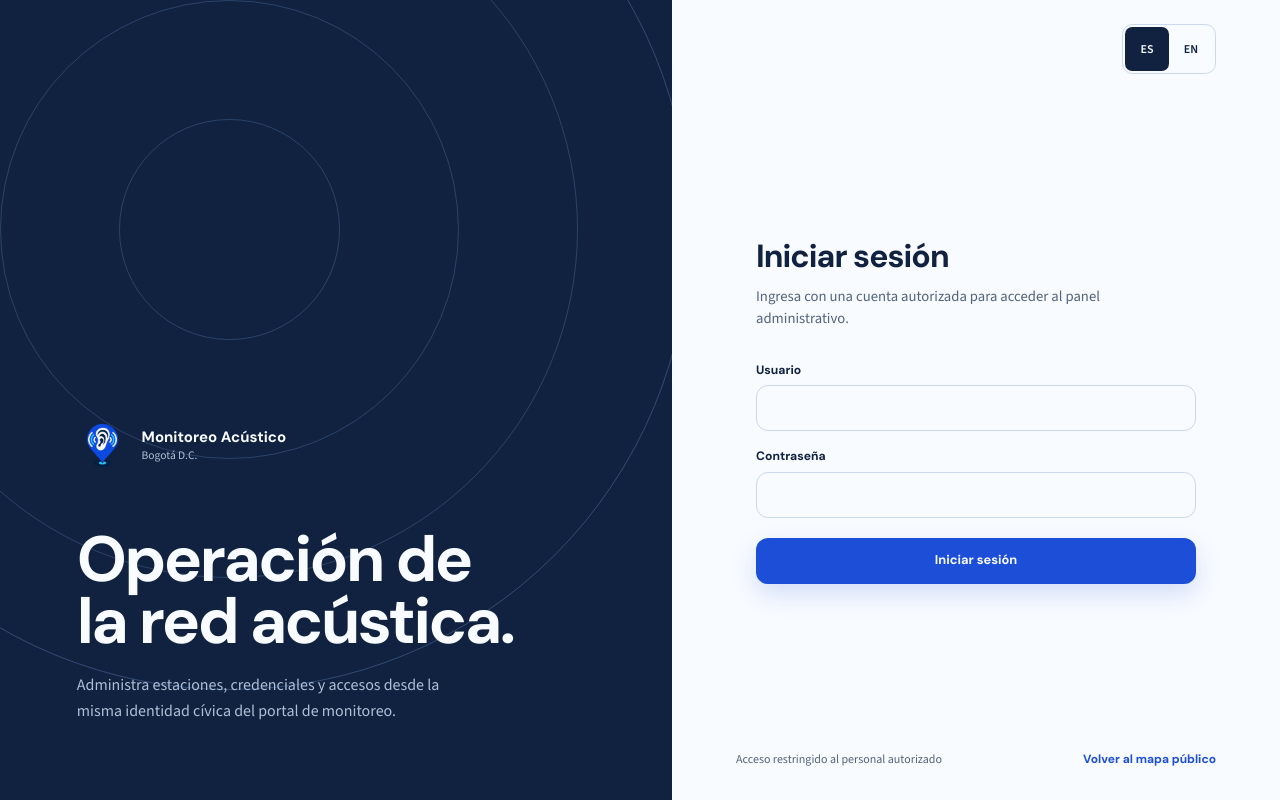
Test: changes a visible login error and preserves credentials without another request
In the field labelled "Usuario": (976, 408) [756, 386, 1196, 432], type "fixture-user"
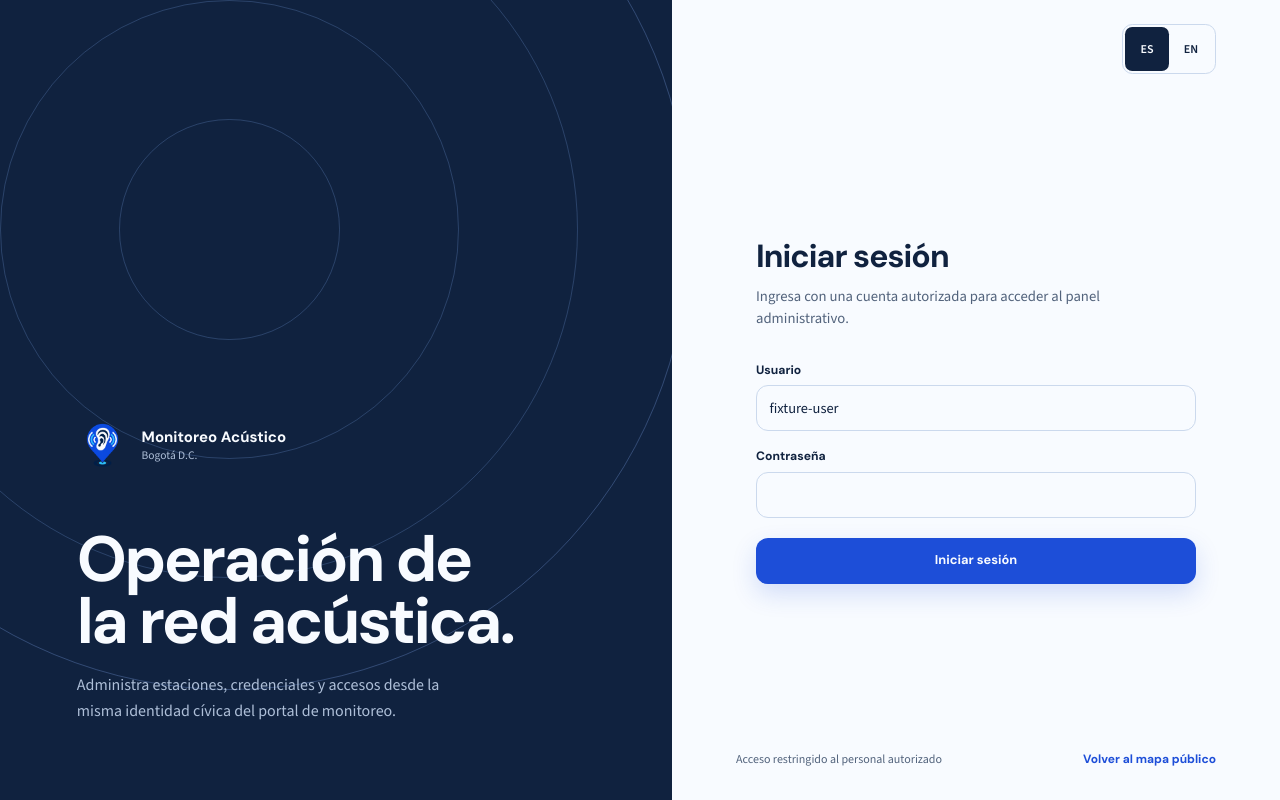
In the password field labelled "Contraseña": (976, 495) [756, 472, 1196, 518], type "fixture-password"
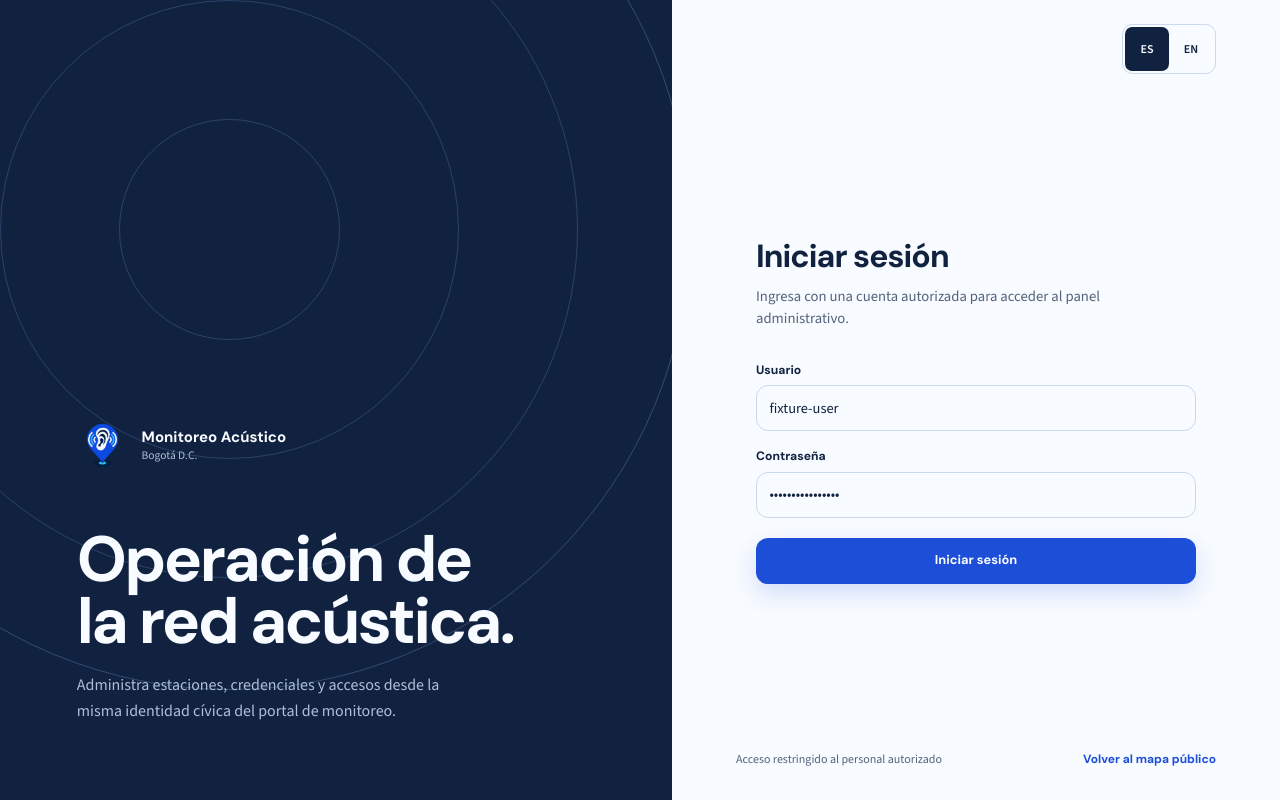
Click the button "Iniciar sesión": (976, 561) [756, 538, 1196, 584]
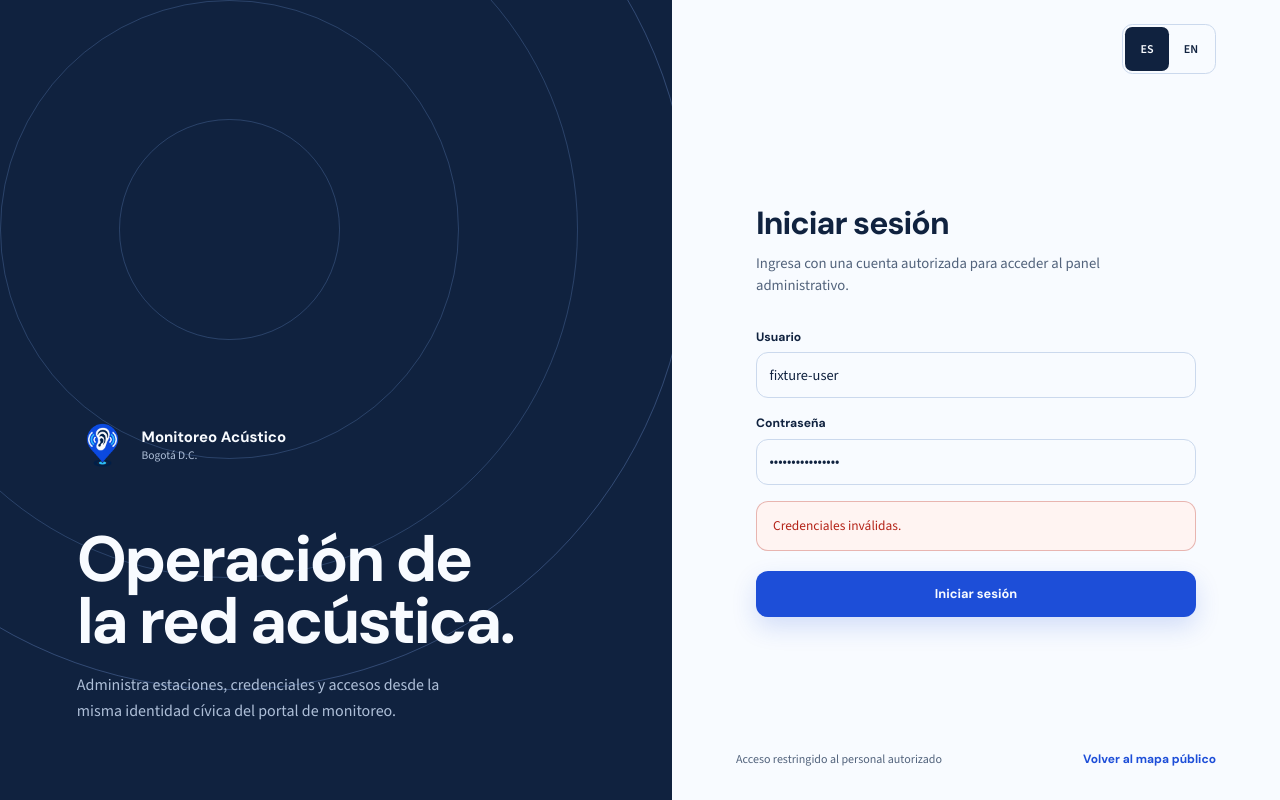
Expected: the message reads "Credenciales inválidas.", [773, 517, 901, 534]
Click the button with aria-label "English": (1191, 49) [1169, 27, 1213, 71]
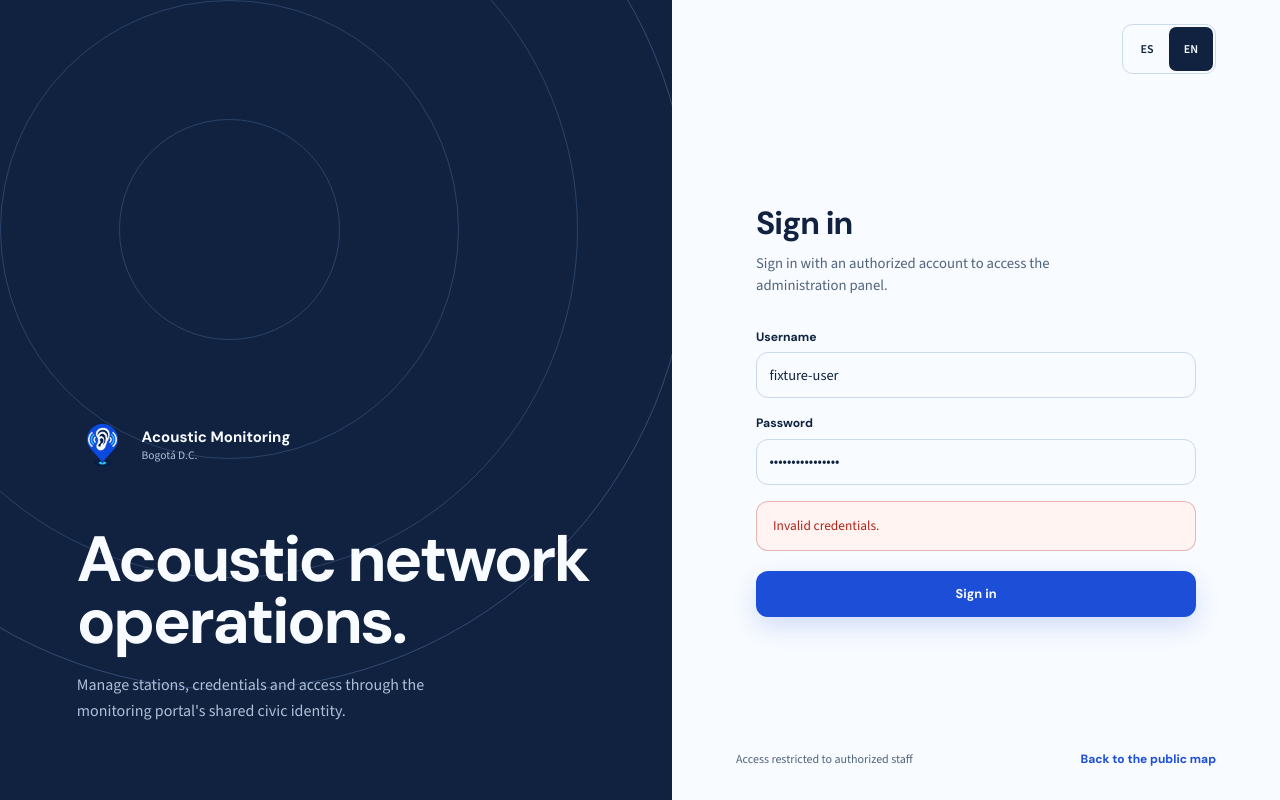
Expected: the message reads "Invalid credentials.", [773, 517, 879, 534]
